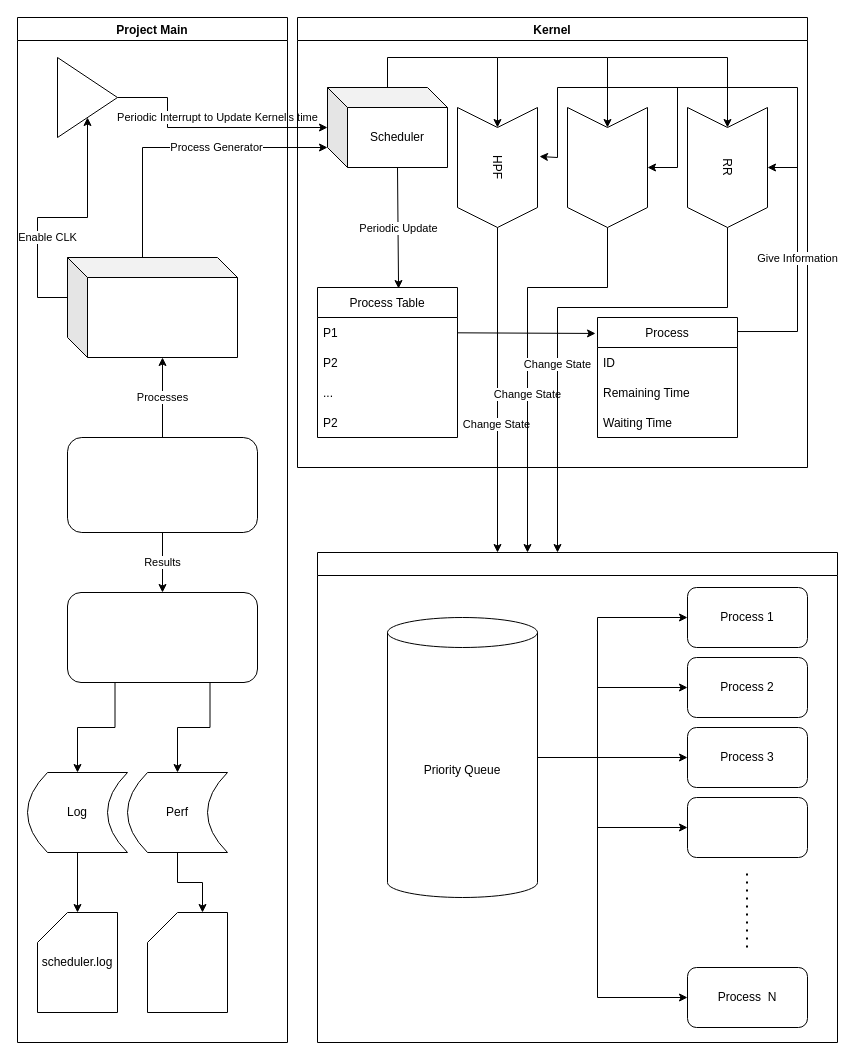
This 855x1060 diagram has some shape labels left out. The shapes that lost their labels are listed below. From the top down, each one's box as (x1, y1, x2, y2) in pixels, then its label:
(56, 56, 118, 138): Systick
(566, 106, 648, 228): SRTN
(66, 256, 238, 358): Simulator
(66, 436, 258, 532): Test Generator
(66, 592, 258, 682): System Analyizer
(316, 552, 838, 1042): Process (Code)
(686, 796, 808, 858): Process 4
(146, 912, 228, 1012): scheduler.perf
